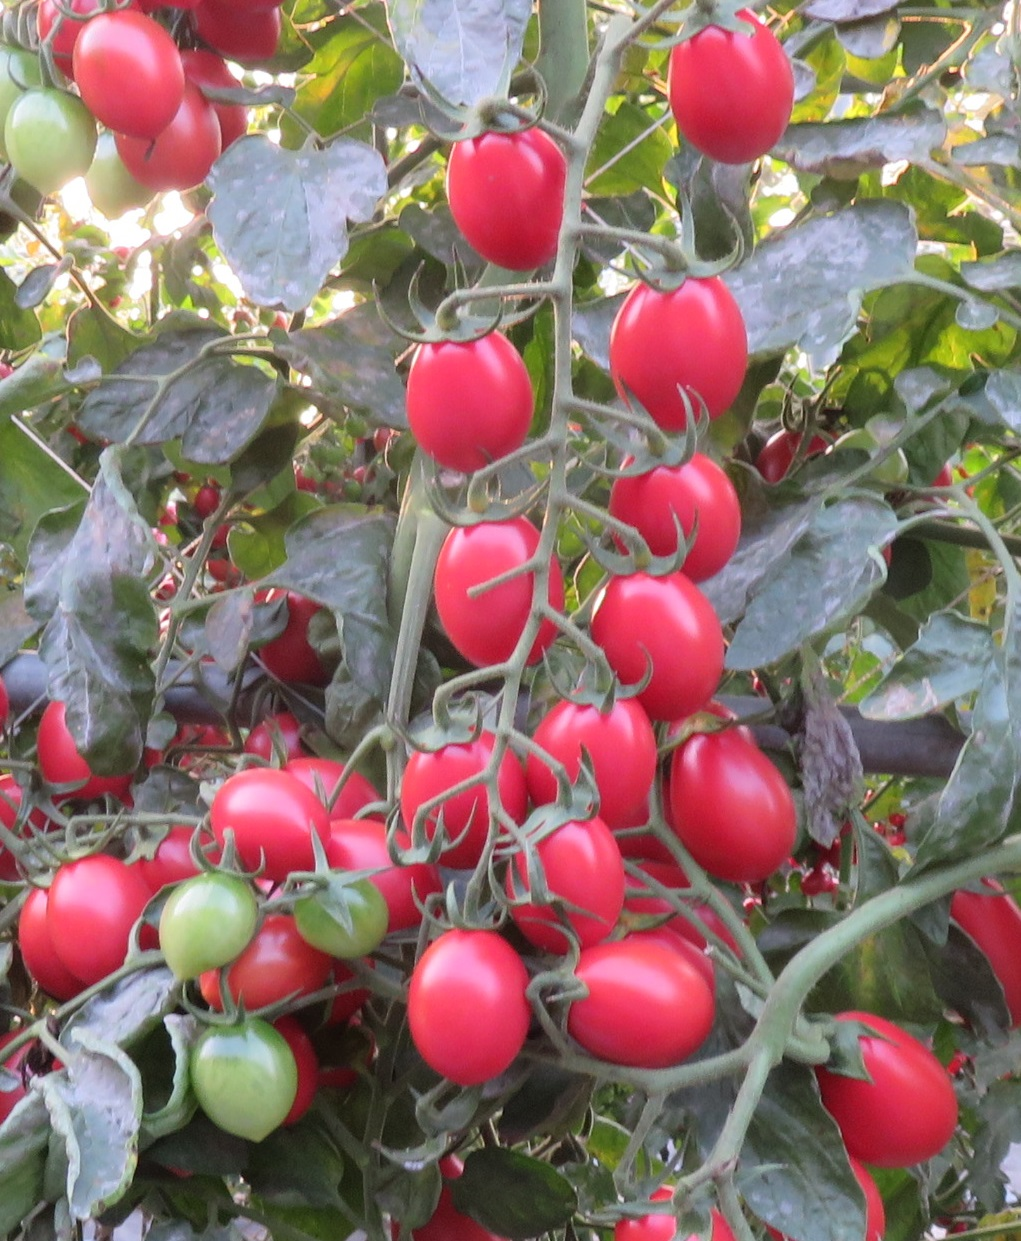green: (189, 1013, 293, 1142), (160, 865, 254, 979), (1, 88, 106, 191), (287, 872, 397, 955)
red: (663, 708, 799, 881), (816, 1008, 972, 1159), (608, 275, 747, 441), (399, 929, 535, 1091), (431, 513, 565, 677), (558, 940, 726, 1070), (667, 1, 793, 169), (410, 317, 535, 481), (587, 570, 724, 717), (603, 443, 744, 581), (445, 118, 570, 269), (503, 806, 629, 952), (398, 731, 526, 870), (524, 684, 657, 814), (70, 19, 197, 137), (48, 856, 160, 982), (197, 915, 341, 1012), (208, 769, 338, 874), (40, 705, 141, 803), (120, 95, 225, 185)
